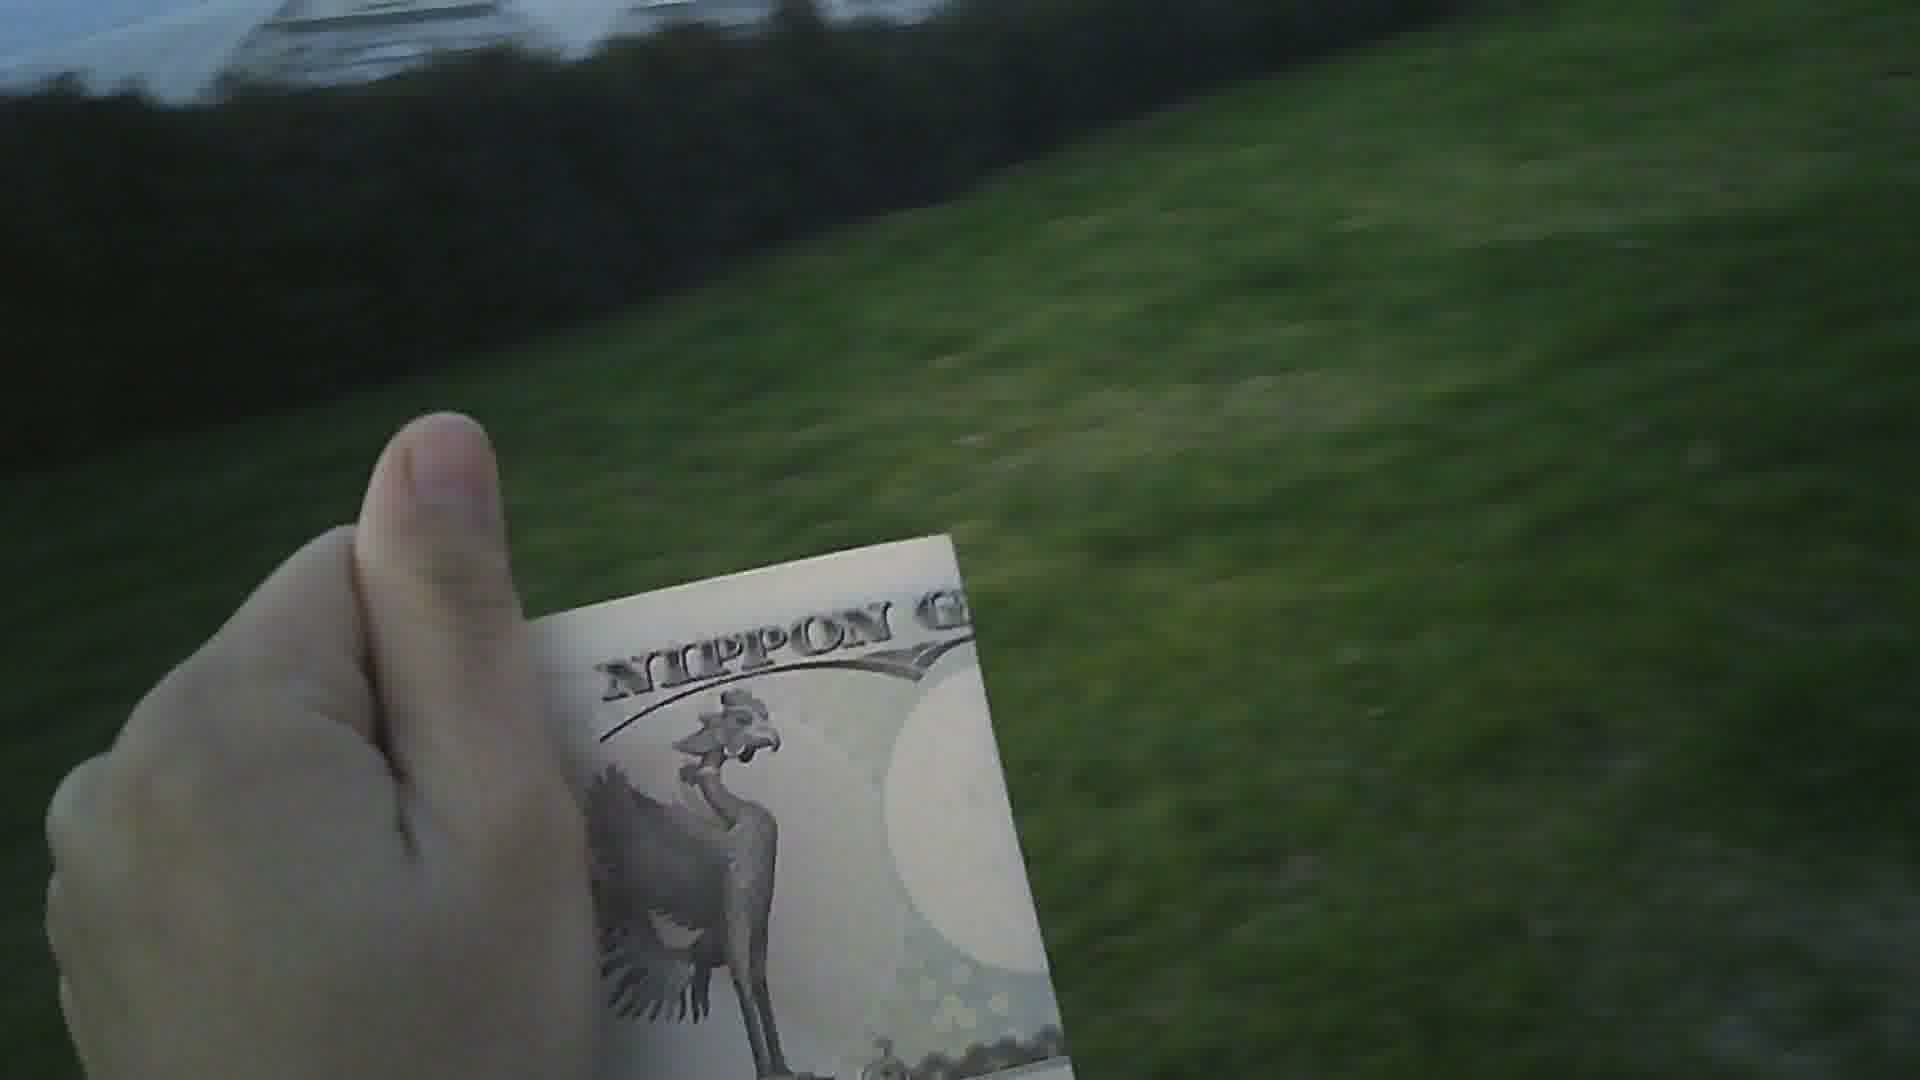10,000 Yen: (320, 491, 1077, 1079)
